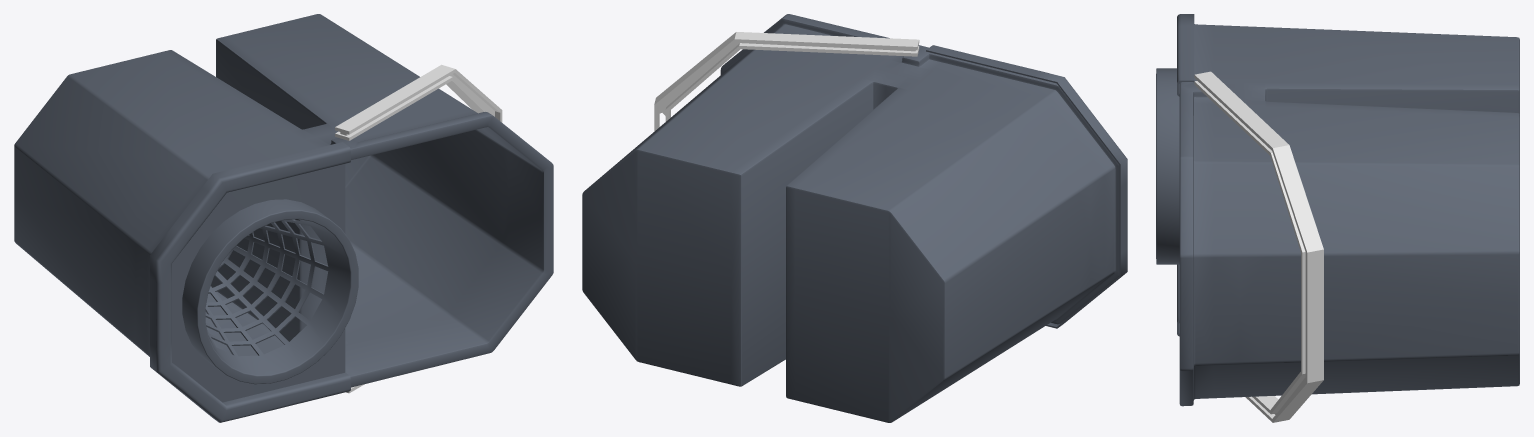
File: secchio_mocio.fbx
3 views of the same model, side by side, from view 1: azimuth 30°, elevation 25°; view 2: azimuth 150°, elevation 25°; view 3: azimuth 270°, elevation 25° (orthographic). The views are drawn at different scales.
Visible parts, largest first — view 1: Empty.001; view 2: Empty.001; view 3: Empty.001.
Boxes of the visible parts, x1,y1,x2,y2 form: Empty.001: (14, 14, 553, 422); Empty.001: (582, 14, 1127, 422); Empty.001: (1156, 14, 1519, 422).
Bounding box in the file's own units: 44.12 × 27.18 × 32.61.
